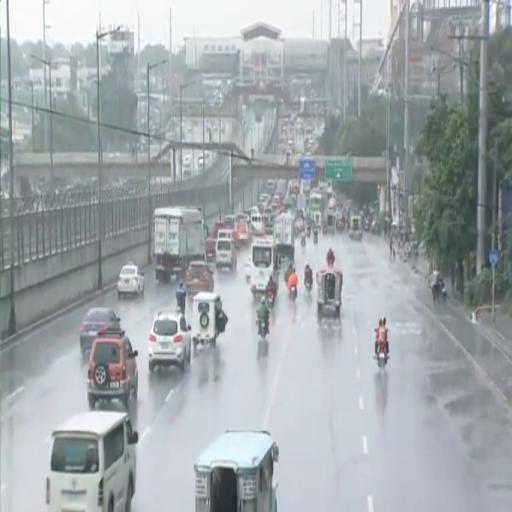car: (46, 411, 138, 511), (88, 329, 138, 409), (149, 311, 191, 372), (80, 308, 120, 359), (186, 261, 214, 295), (117, 263, 144, 297), (245, 256, 252, 282)
motorcycle: (375, 344, 389, 367), (258, 319, 267, 340), (439, 280, 446, 302), (432, 284, 440, 302), (177, 296, 185, 314), (267, 290, 274, 308), (289, 286, 297, 301), (304, 279, 312, 293), (284, 268, 291, 283), (327, 256, 334, 267), (306, 226, 312, 238), (301, 235, 305, 247), (313, 232, 317, 244), (322, 224, 326, 234)
truck: (153, 207, 205, 282), (273, 213, 294, 261)
